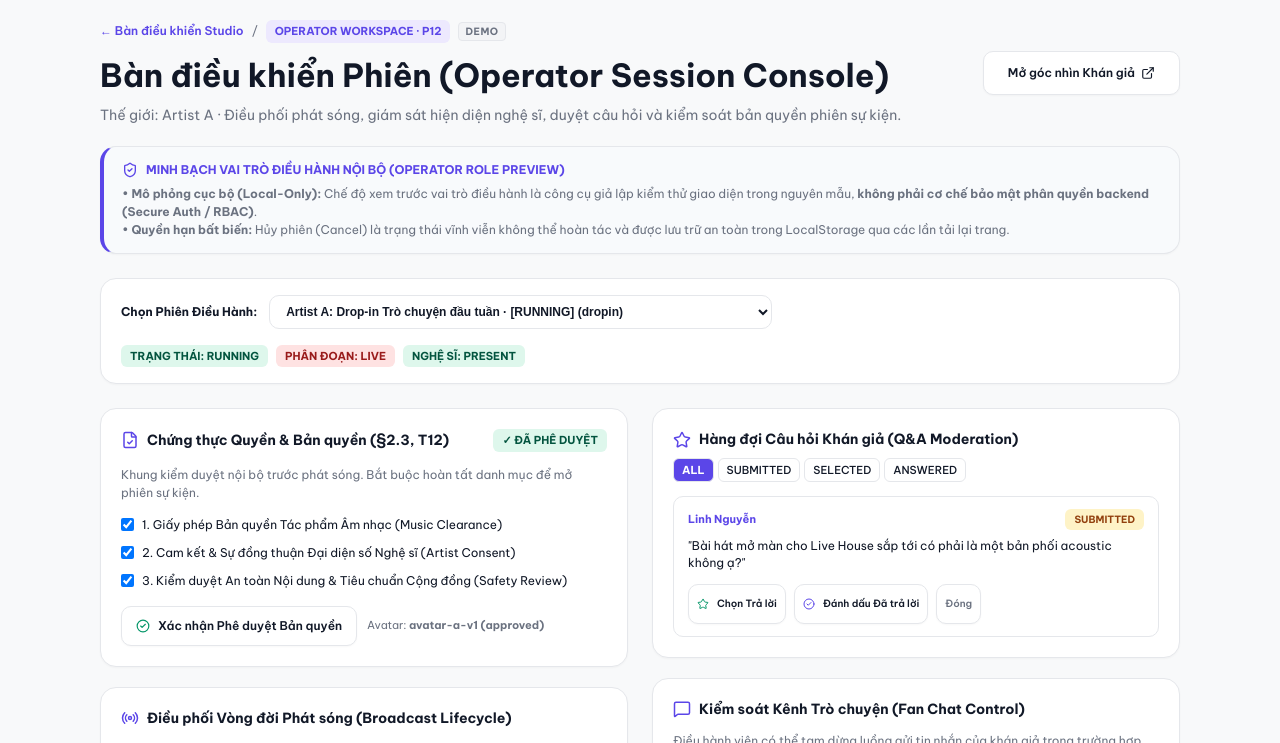
it: T12 Acceptance: Operator Session Console & Orchestration › 3. Fan View Propagation & Moderation Sync › Operator question selection immediately displays active question banner on Fan Stage View
Click the button with test id "select-question-btn" at (737, 604), box [688,584,786,624]
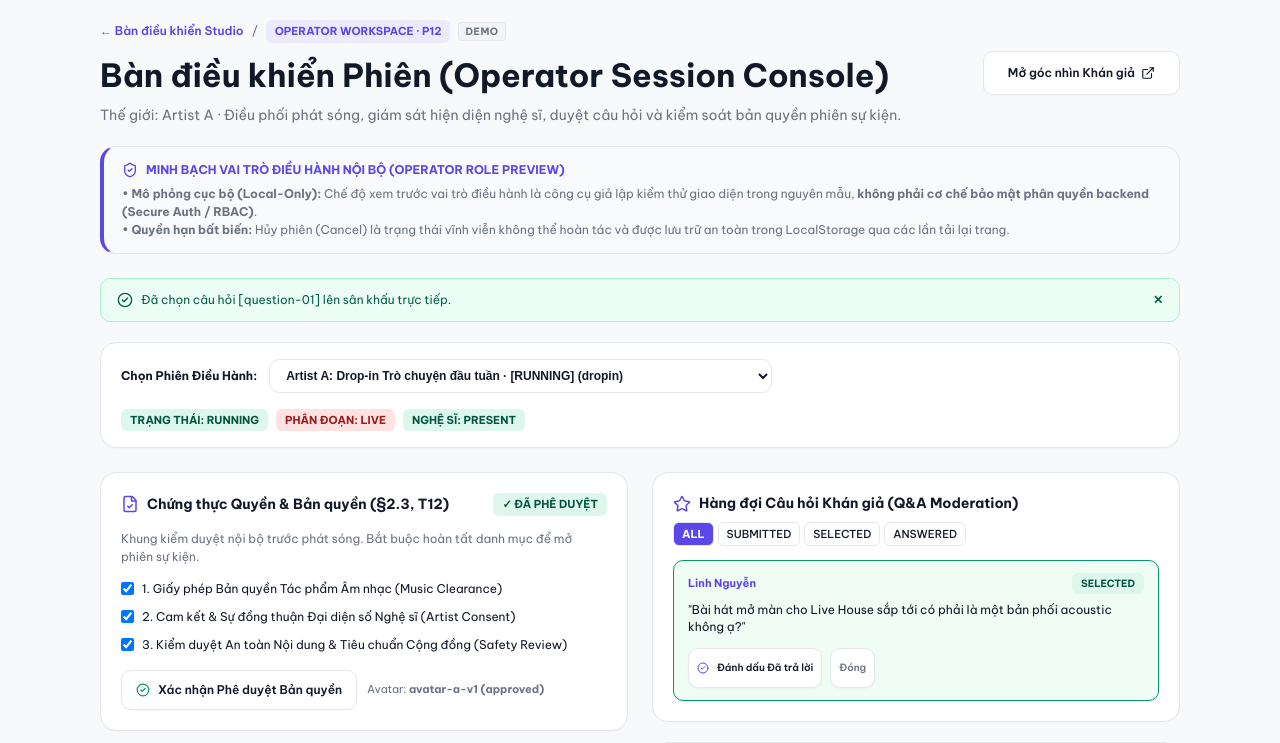
Check: the text "Đã chọn câu hỏi [question-01] lên sân khấu trực tiếp." is shown, box [141,290,451,308]
Note: Navigate to Fan Stage View
Click the link with test id "view-fan-stage-link" at (1081, 72), box [983,50,1180,94]
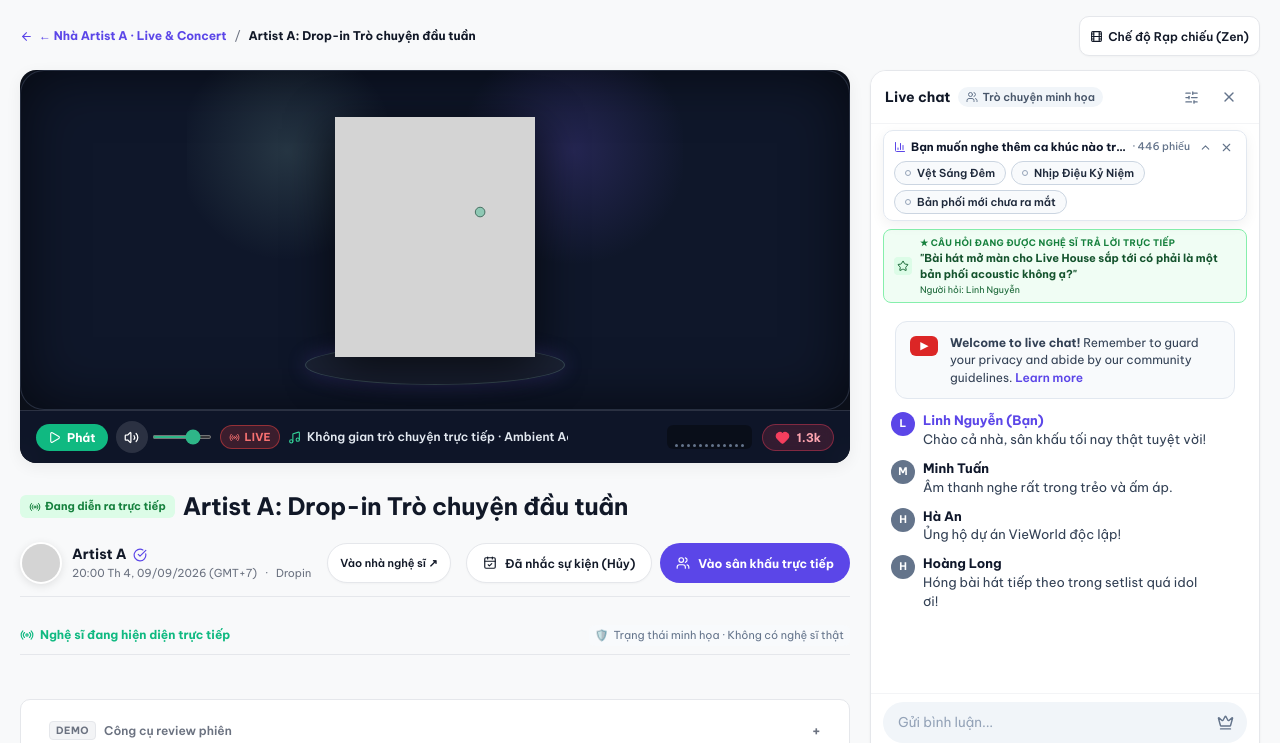
Check: the element with test id "active-selected-question-banner" is shown, box [883,229,1247,303]
Check: the element with test id "active-selected-question-banner" shows "CÂU HỎI ĐANG ĐƯỢC NGHỆ SĨ TRẢ LỜI TRỰC TIẾP", box [920,237,1175,248]
